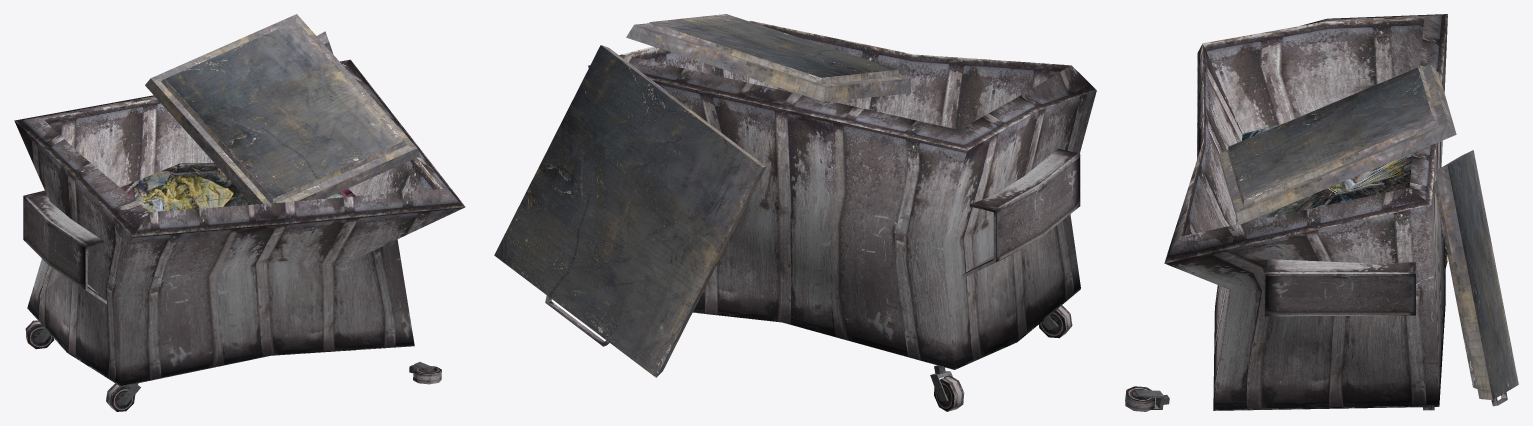
Rendered from Model_Container_13.fbx.
3 views of the same model, side by side, from view 1: azimuth 30°, elevation 25°; view 2: azimuth 150°, elevation 25°; view 3: azimuth 270°, elevation 25° (orthographic). The views are drawn at different scales.
Visible parts, largest first — view 1: Container_13; view 2: Container_13; view 3: Container_13.
Part boxes in pixels (x1,y1,x2,y2): Container_13: (14,14,465,411); Container_13: (494,14,1096,411); Container_13: (1125,14,1518,411).
Size of the model in its own units: 243 by 156 by 191.
